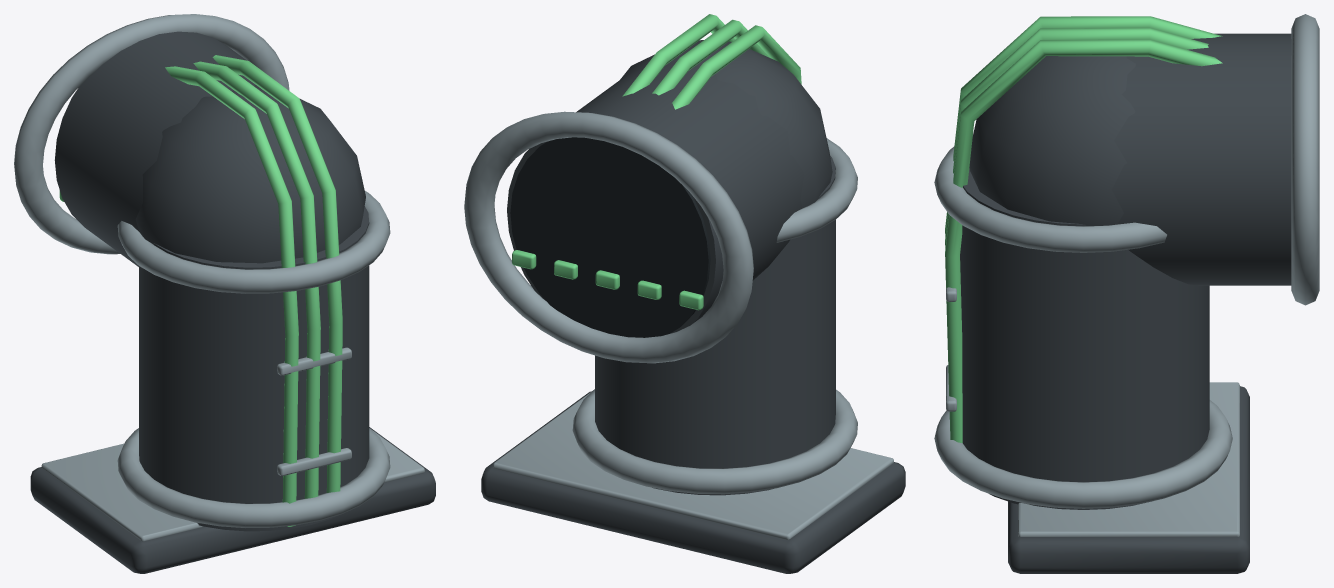
Rendered from spout-mainframe.glb.
3 views of the same model, side by side, from view 1: azimuth 30°, elevation 25°; view 2: azimuth 150°, elevation 25°; view 3: azimuth 270°, elevation 25° (orthographic). The views are drawn at different scales.
Visible parts, largest first — view 1: mainframe_shell, mainframe_flange, mainframe_cables; view 2: mainframe_shell, mainframe_flange, mainframe_socket, mainframe_cables; view 3: mainframe_shell, mainframe_flange, mainframe_cables.
Boxes of the visible parts, x1,y1,x2,y2 form: mainframe_shell: (30, 31, 435, 573); mainframe_flange: (14, 14, 424, 541); mainframe_cables: (59, 55, 342, 526); mainframe_shell: (481, 40, 905, 573); mainframe_flange: (464, 111, 893, 539); mainframe_socket: (510, 137, 710, 337); mainframe_cables: (512, 14, 801, 310); mainframe_shell: (960, 33, 1291, 573); mainframe_flange: (934, 14, 1319, 536); mainframe_cables: (945, 16, 1222, 443).
Bounding box in the file's own units: 7.6 × 10.25 × 7.64.
